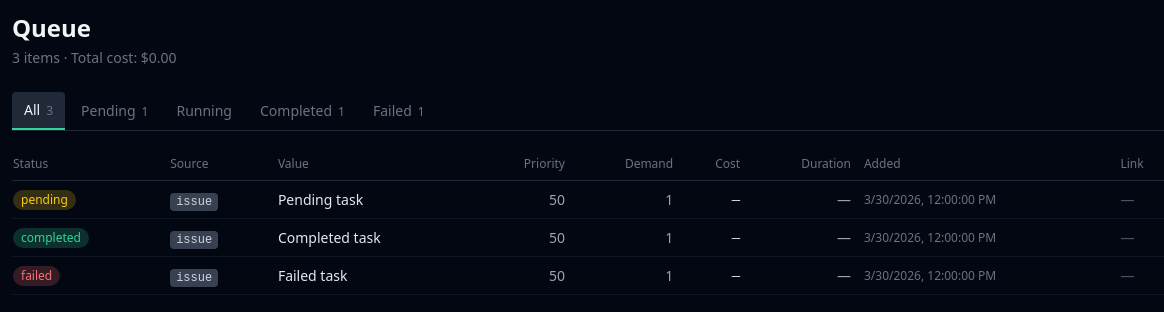
Queue page › filters by status when clicking tabs
The width and height of the screenshot is (1164, 312).
Expected: the text "Pending task" is shown, [278,190,363,208]
Click "Completed" tab
Click the button "Completed1": (302, 111) [248,92,357,130]
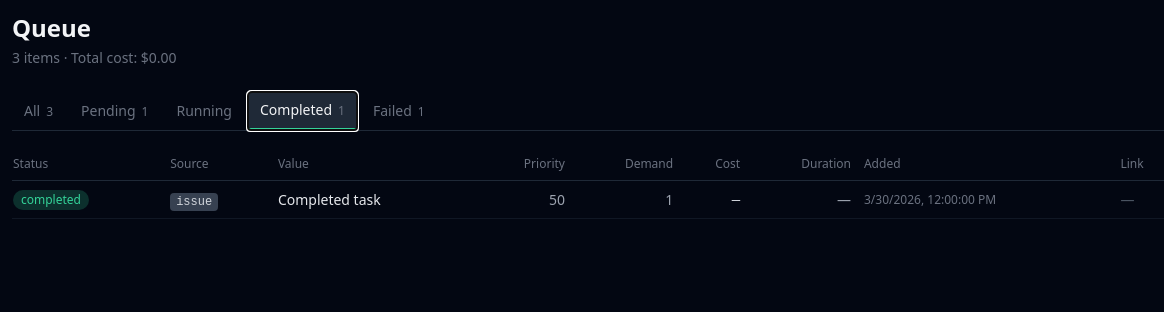
Expected: the text "Completed task" is shown, [278,190,381,208]
Now the text "Pending task" is gone
Click "All" tab
Click the button "All3": (38, 111) [12,92,65,130]
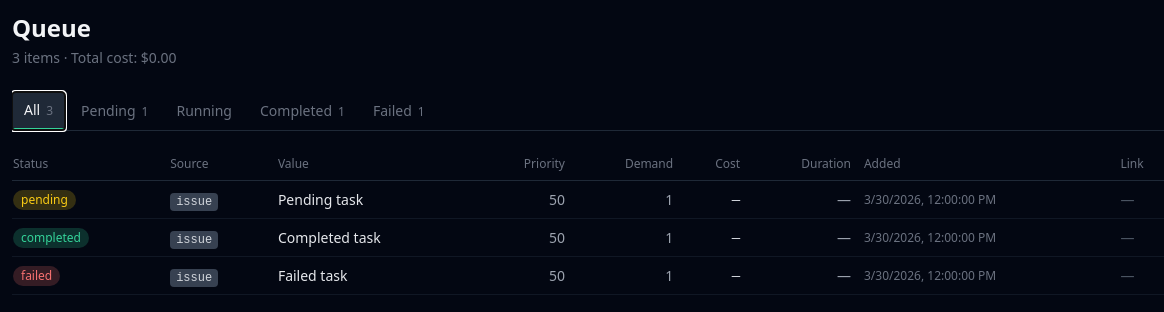
Expected: the text "Completed task" is shown, [278,228,381,246]
Now the text "Pending task" is shown, box [278,190,363,208]
